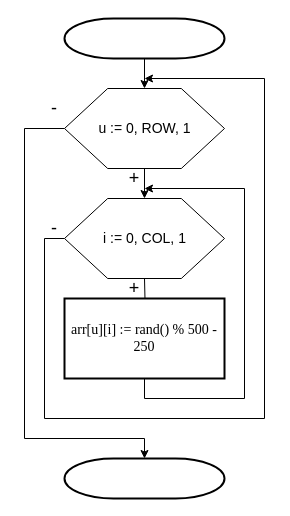
Some shapes in this 290 by 516 pixel diagram are drawn without their labels. The centre of each missing label's shape, as x and y in pixels:
fill_arr(arr, ROW, COL): point 144,38
кінець: point 144,478
